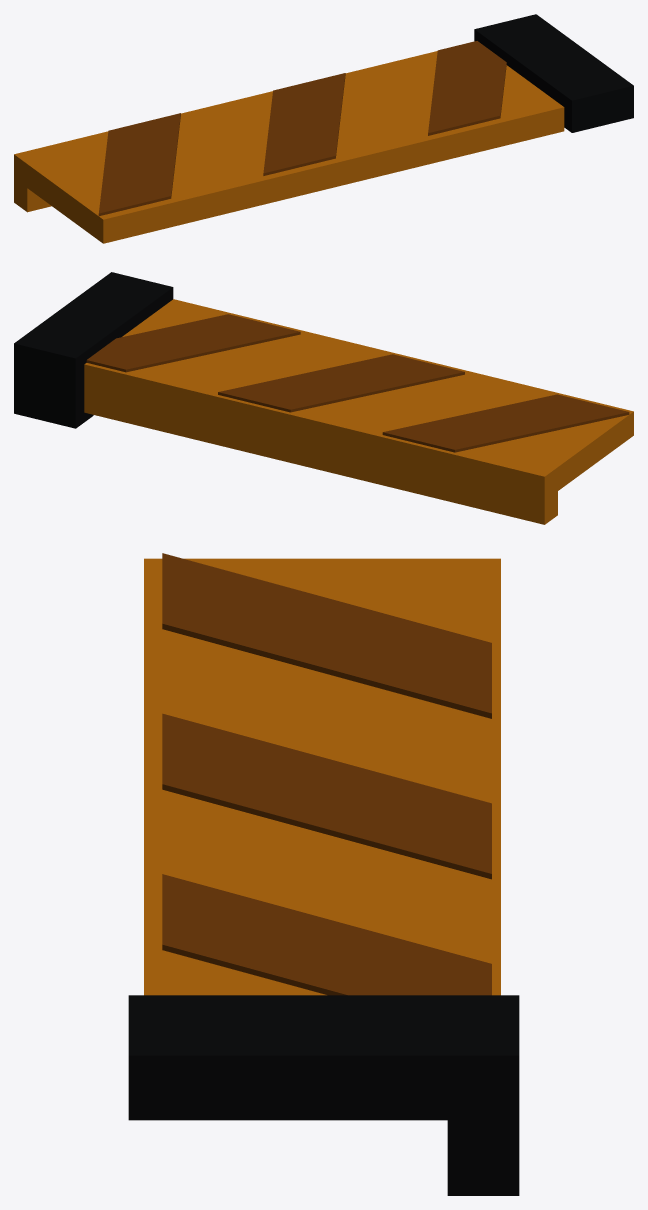
Rendered from NeonCityV5_Run_Hazard_EndWallStart.fbx.
3 renders of one model, top to bottom at view 1: azimuth 30°, elevation 25°; view 2: azimuth 150°, elevation 25°; view 3: azimuth 270°, elevation 25°, orthographic. The views are drawn at different scales.
Visible parts, largest first — view 1: NeonCityV5_Run_Hazard_EndWallStart; view 2: NeonCityV5_Run_Hazard_EndWallStart; view 3: NeonCityV5_Run_Hazard_EndWallStart.
Boxes of the visible parts, x1,y1,x2,y2 form: NeonCityV5_Run_Hazard_EndWallStart: (14, 14, 633, 243); NeonCityV5_Run_Hazard_EndWallStart: (14, 272, 633, 524); NeonCityV5_Run_Hazard_EndWallStart: (128, 553, 519, 1195).
Bounding box in the file's own units: 0.8 × 0.102 × 0.257.
